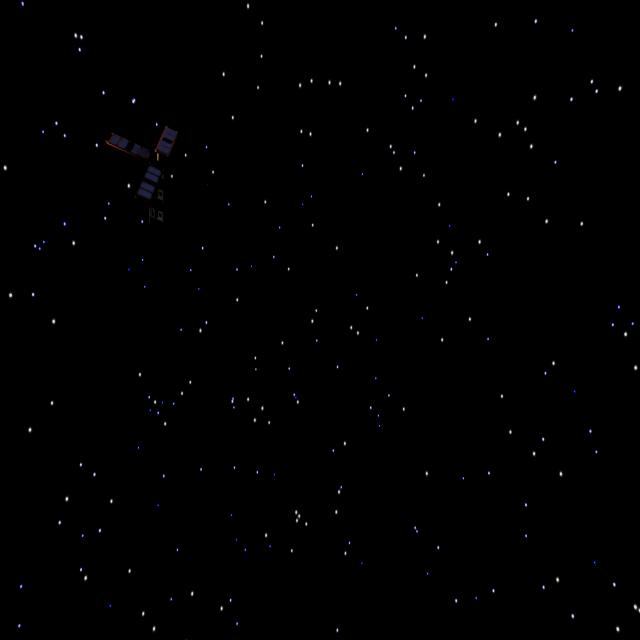medium_debris: (101, 113, 213, 231)
